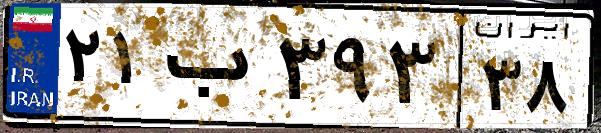1: (110, 28, 158, 98)
2: (57, 26, 110, 100)
3: (270, 28, 330, 110), (385, 28, 445, 110), (475, 38, 525, 113)
8: (525, 38, 570, 115)
9: (330, 28, 385, 110)
ب: (158, 20, 270, 120)
